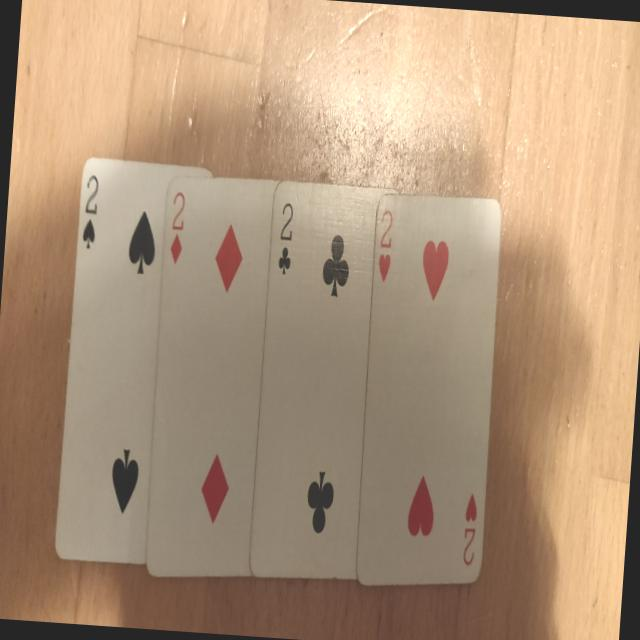Club: (321, 233, 351, 298), (305, 470, 335, 534), (278, 247, 290, 274)
Diamond: (212, 222, 245, 294), (198, 452, 230, 524), (169, 234, 182, 264)
Heart: (406, 474, 436, 537), (419, 240, 449, 302), (466, 493, 478, 522), (378, 254, 390, 282)
Spade: (110, 448, 140, 514), (127, 210, 157, 275), (82, 218, 95, 249)
